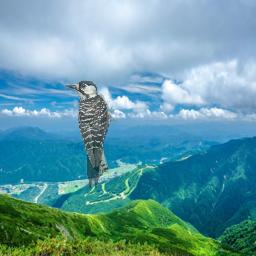Woodpecker: (64, 80, 119, 192)
